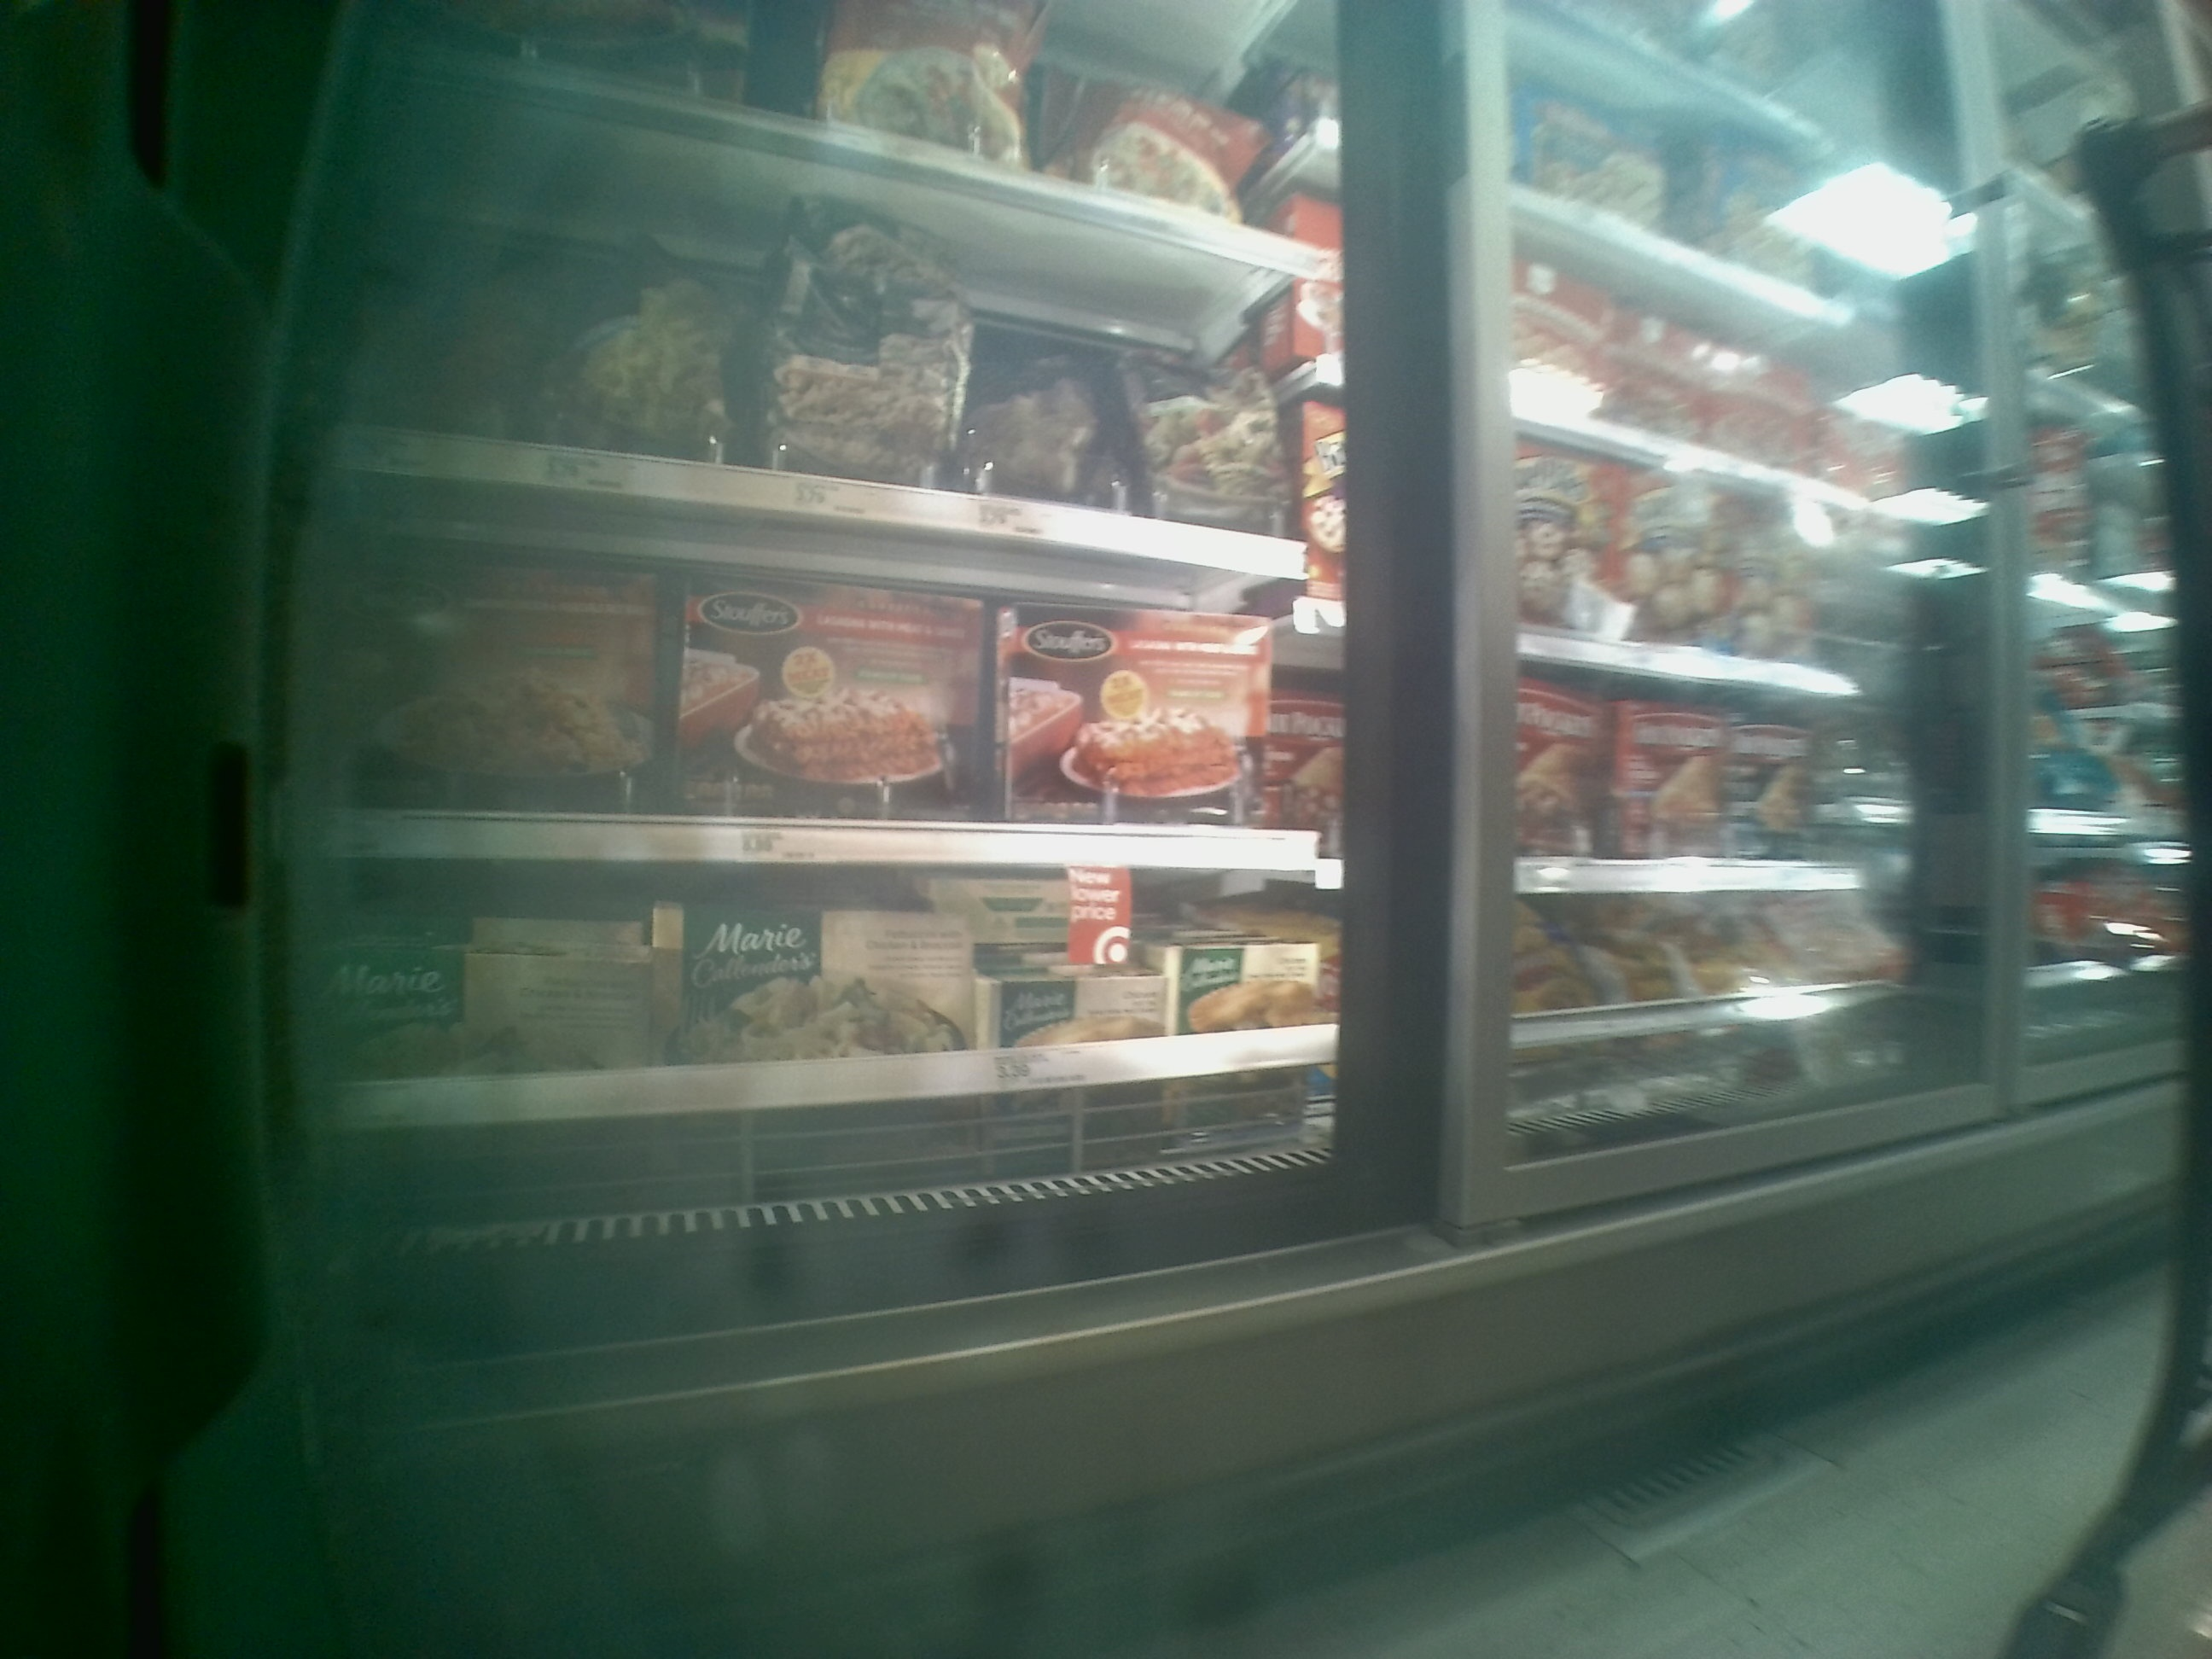shelf: (322, 207, 1329, 580), (317, 540, 1332, 884), (308, 866, 1336, 1127)
